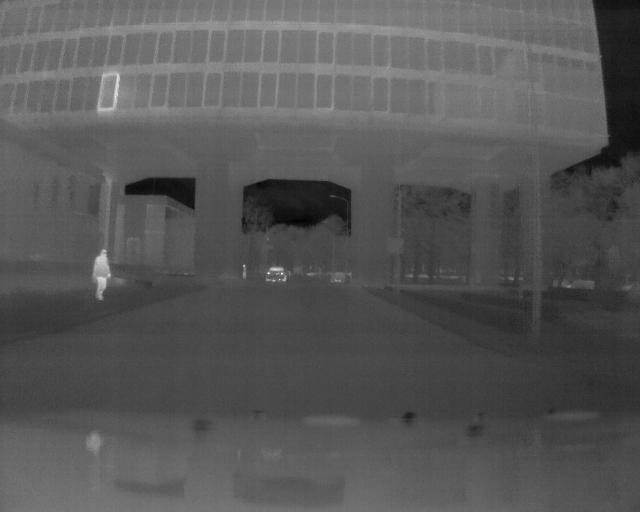car: (261, 264, 291, 283)
person: (89, 246, 114, 305)
